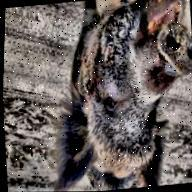boar: (38, 0, 192, 192)
